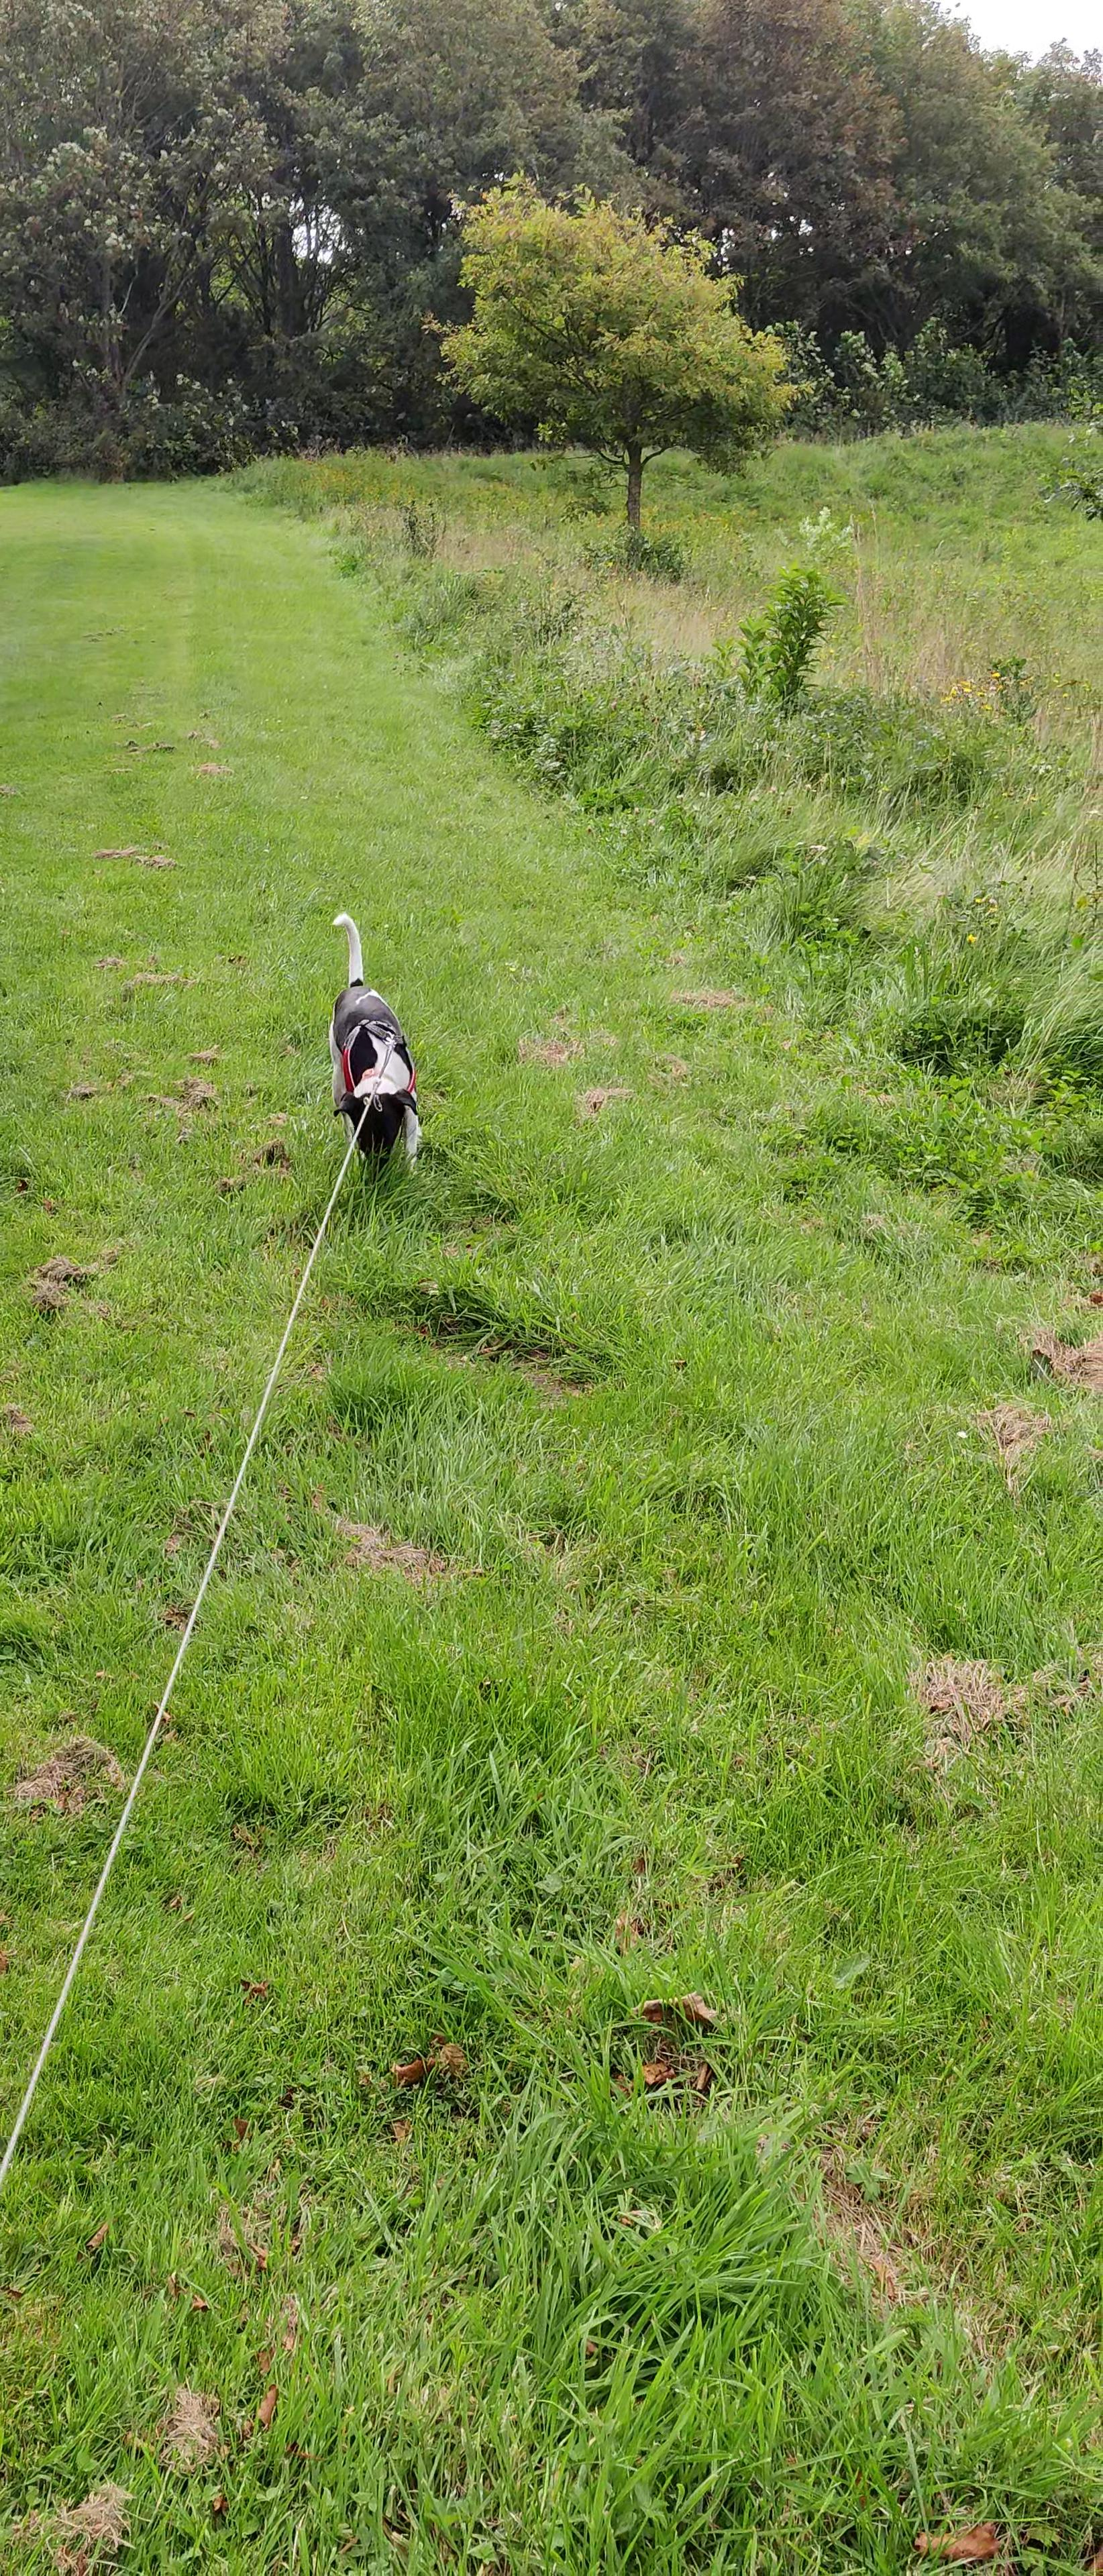Dog: (325, 907, 424, 1188)
